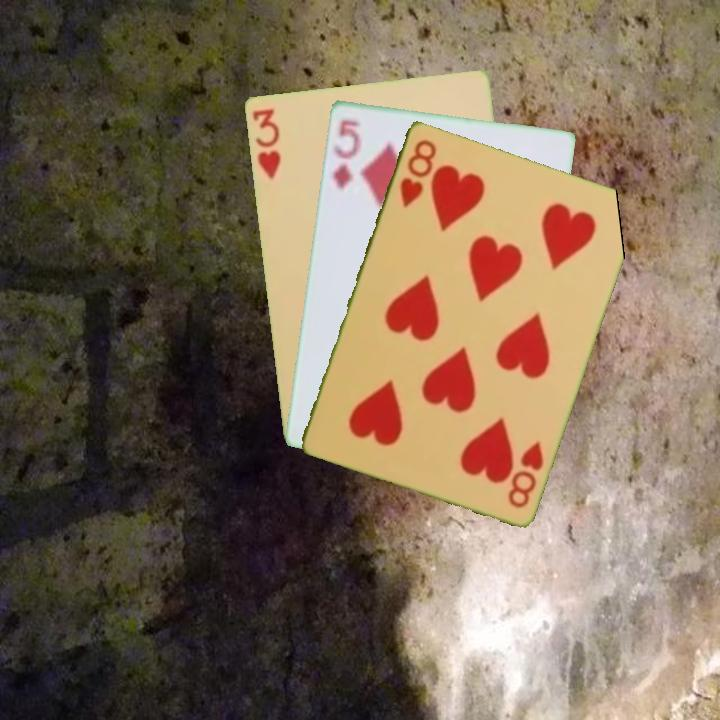3h: (248, 104, 284, 182)
5d: (329, 115, 363, 192)
8h: (396, 135, 439, 210), (504, 437, 546, 510)
